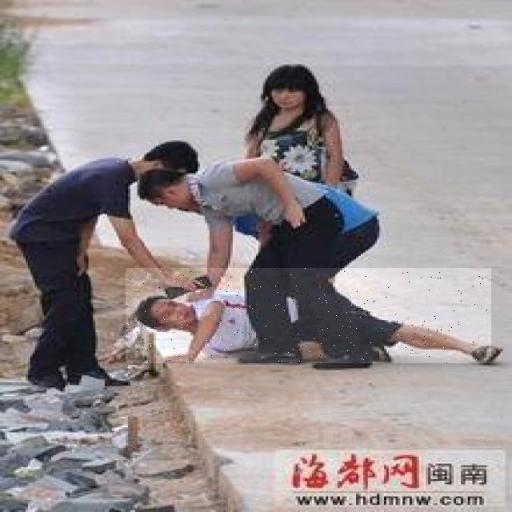Fall: (126, 268, 491, 363)
